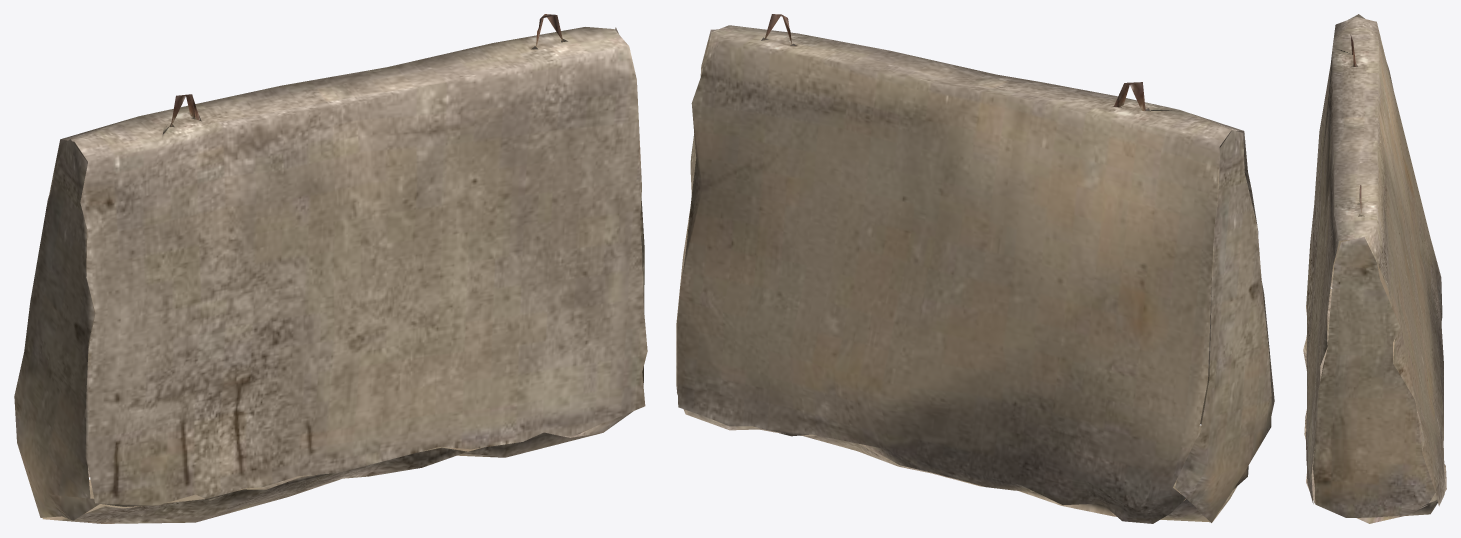
File: barreira.glb
The picture shows the model from 3 angles, left to right: view 1: azimuth 30°, elevation 25°; view 2: azimuth 150°, elevation 25°; view 3: azimuth 270°, elevation 25°; orthographic projection. The views are drawn at different scales.
Parts seen in each view (by area): view 1: Malha; view 2: Malha; view 3: Malha.
Part boxes in pixels (box(x1,y1,x2,y2)): Malha: box(14, 14, 647, 523); Malha: box(676, 14, 1274, 523); Malha: box(1303, 14, 1446, 523).
Bounding box in the file's own units: 1.57 × 1.12 × 0.4478.
1 material, 1 textured.
